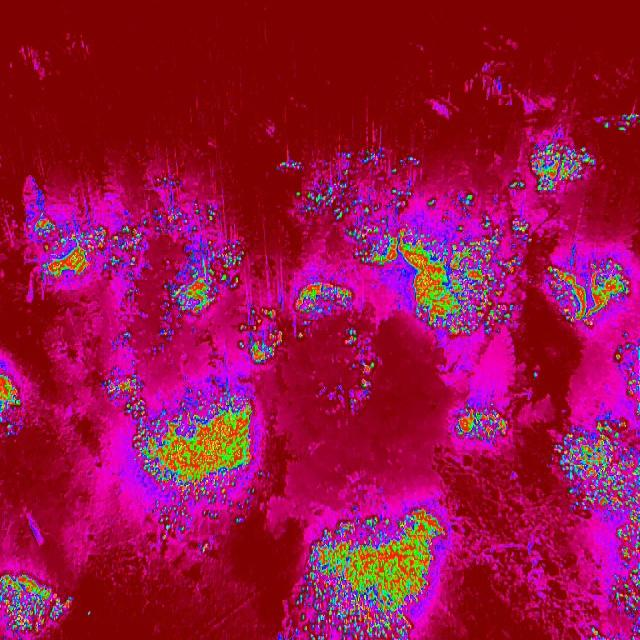fire: (280, 511, 447, 640), (98, 365, 256, 495), (399, 203, 531, 339), (22, 201, 250, 277), (288, 146, 417, 260), (559, 416, 640, 526), (538, 244, 632, 330), (0, 566, 72, 640), (522, 135, 596, 199), (144, 278, 218, 340), (602, 526, 640, 640), (286, 273, 360, 327), (338, 330, 381, 415), (608, 317, 640, 427), (238, 304, 286, 366), (448, 406, 512, 446), (0, 372, 22, 442)
